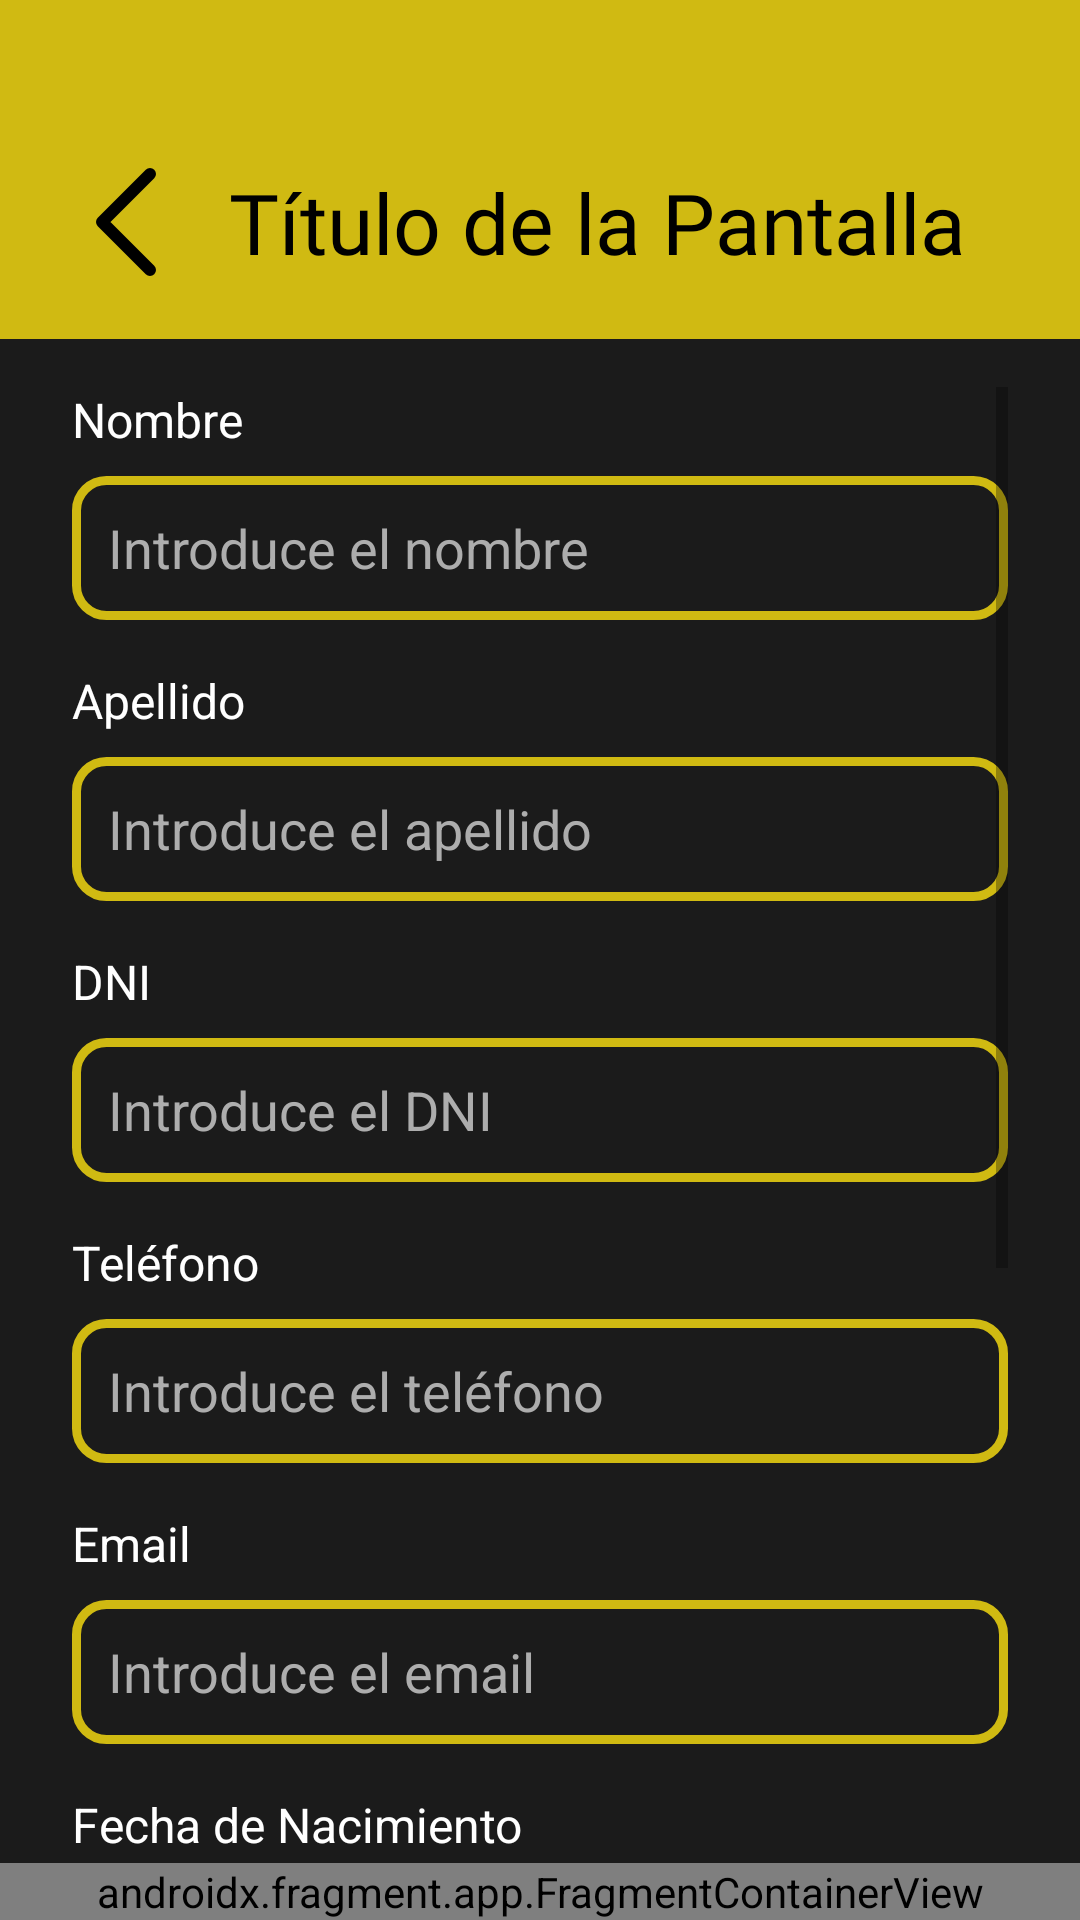

Where to tap for icons on this 1080px x 1920px app screen, as (x,y):
atras: (126,222)
